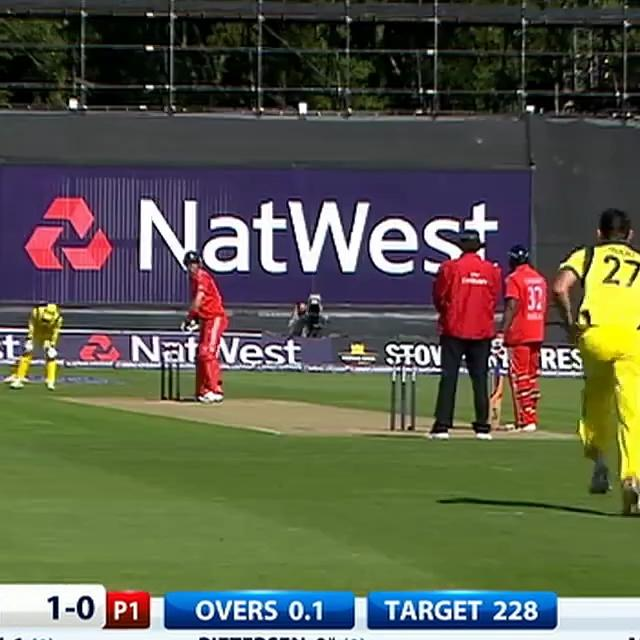umpire: (422, 230, 528, 442)
